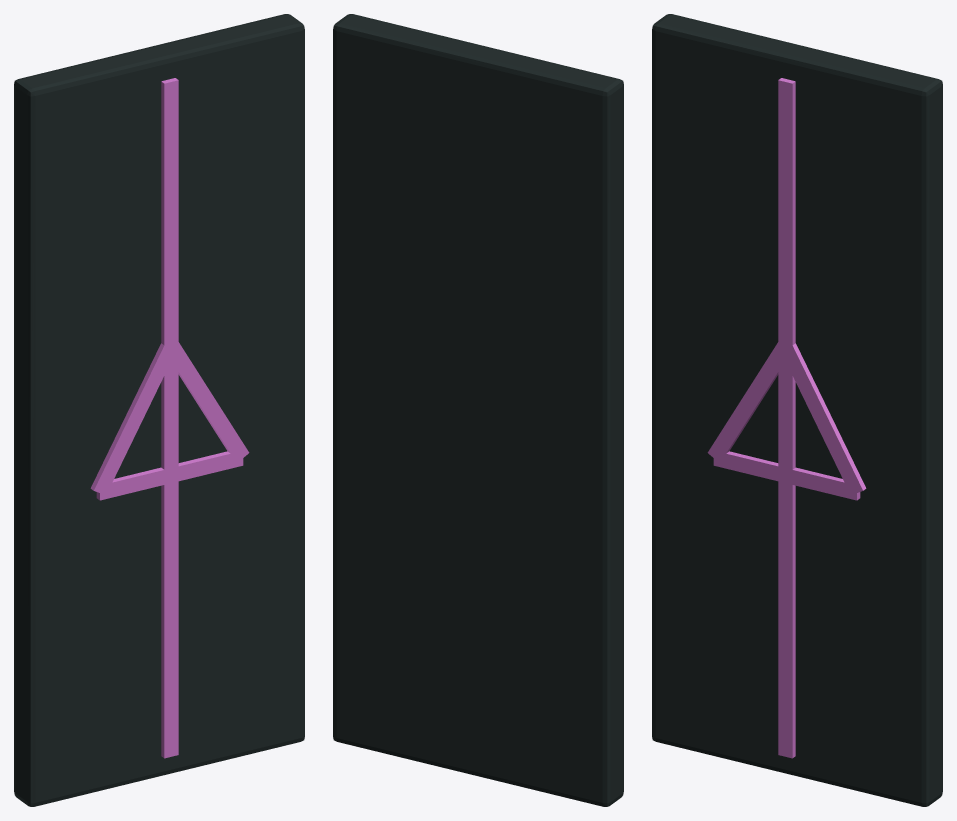
The model's file is TriangleDoor_panel.glb.
3 views of the same model, side by side, from view 1: azimuth 30°, elevation 25°; view 2: azimuth 150°, elevation 25°; view 3: azimuth 330°, elevation 25° (orthographic).
Parts seen in each view (by area): view 1: TriangleDoor_panel.001; view 2: TriangleDoor_panel.001; view 3: TriangleDoor_panel.001.
Part boxes in pixels (x1,y1,x2,y2): TriangleDoor_panel.001: (14, 14, 304, 806); TriangleDoor_panel.001: (333, 14, 623, 806); TriangleDoor_panel.001: (652, 14, 942, 806).
Size of the model in its own units: 0.54 by 1.34 by 0.071.
